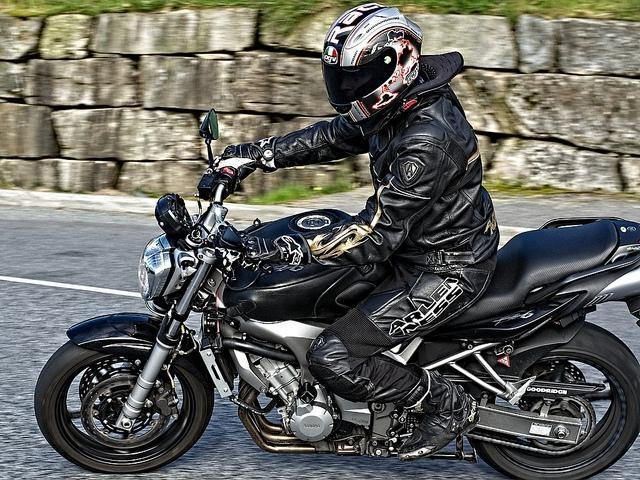motorcycle: (36, 108, 640, 474)
